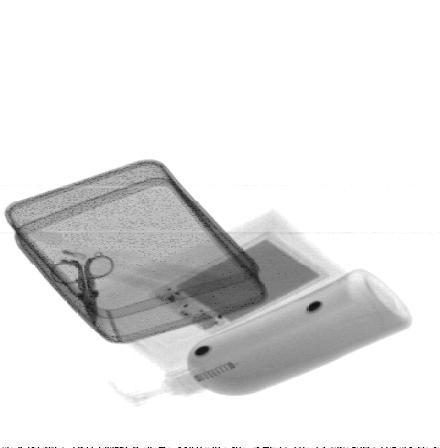Powerbank: (149, 229, 333, 338)
Scissors: (49, 252, 116, 333)
